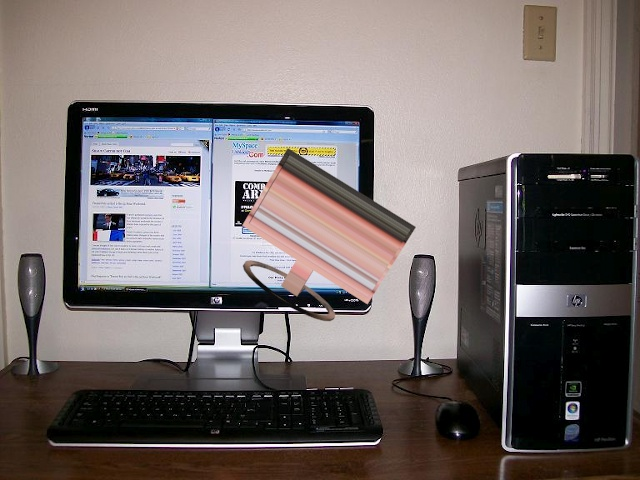monitor: (240, 145, 417, 336)
